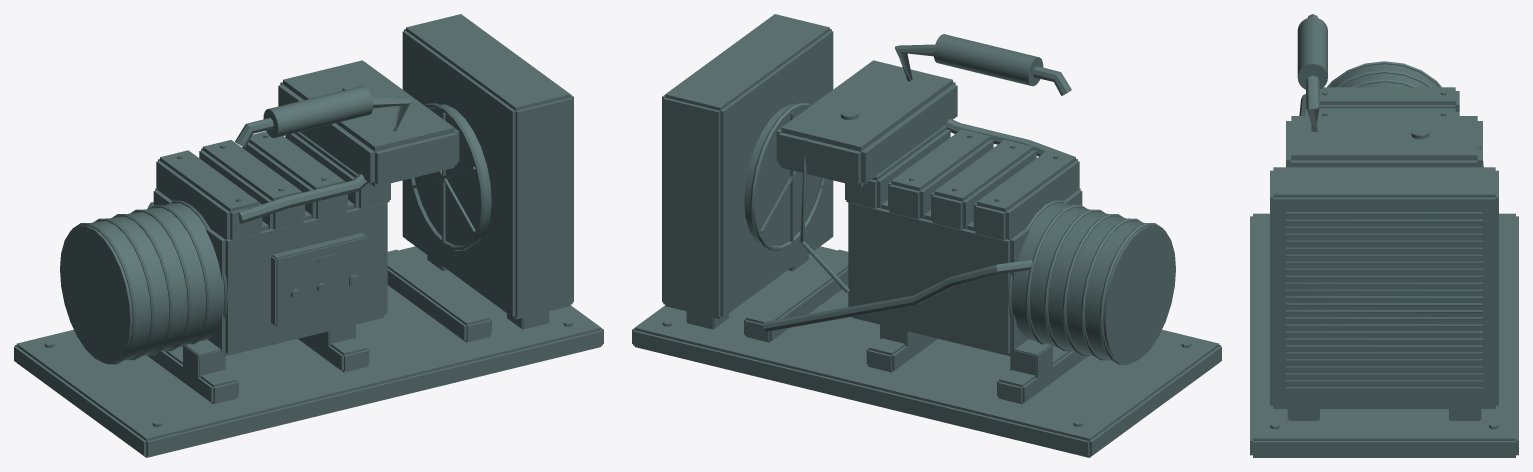
The model's file is OBJ-032_GeneradorLocal.fbx.
3 renders of one model, left to right at view 1: azimuth 30°, elevation 25°; view 2: azimuth 150°, elevation 25°; view 3: azimuth 270°, elevation 25°, orthographic.
Visible parts, largest first — view 1: GEO-OBJ-032_GeneradorLocal.004; view 2: GEO-OBJ-032_GeneradorLocal.004; view 3: GEO-OBJ-032_GeneradorLocal.004.
Boxes of the visible parts, box(x1,y1,x2,y2) form: GEO-OBJ-032_GeneradorLocal.004: box(14, 14, 603, 457); GEO-OBJ-032_GeneradorLocal.004: box(632, 14, 1221, 457); GEO-OBJ-032_GeneradorLocal.004: box(1250, 14, 1518, 457).
Size of the model in its own units: 3 by 1.8 by 1.5.
